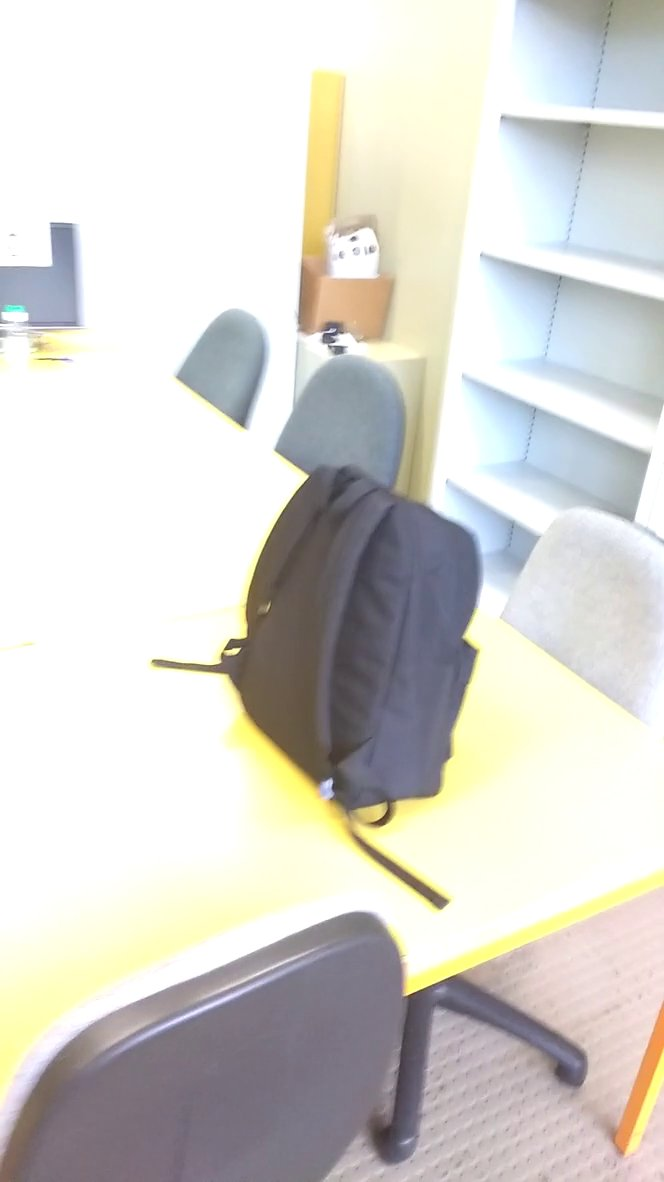bag: (212, 453, 497, 828)
chair: (1, 881, 425, 1182), (498, 497, 664, 749), (271, 350, 420, 520), (173, 302, 276, 441)
